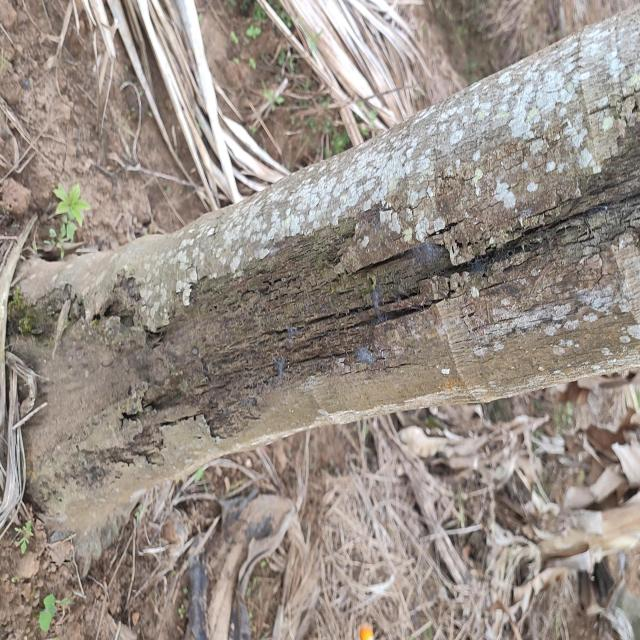Stem_Cracking: (140, 157, 552, 446)
